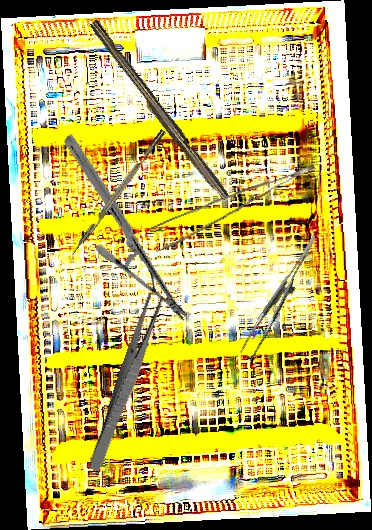Chopper: (65, 129, 172, 265)
Dressing Forceps: (86, 291, 166, 474)
Needle Holder: (15, 133, 237, 323)
Scalpel Handle: (83, 19, 234, 204)
Tissue Forceps: (145, 164, 325, 253), (228, 235, 336, 361)
